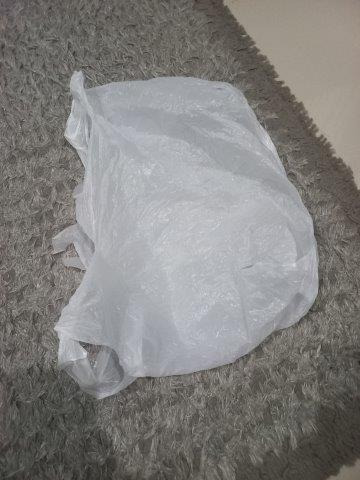plastik: (64, 73, 322, 393)
